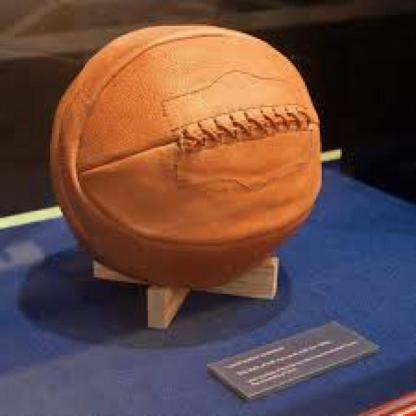basketball: (48, 24, 320, 287)
